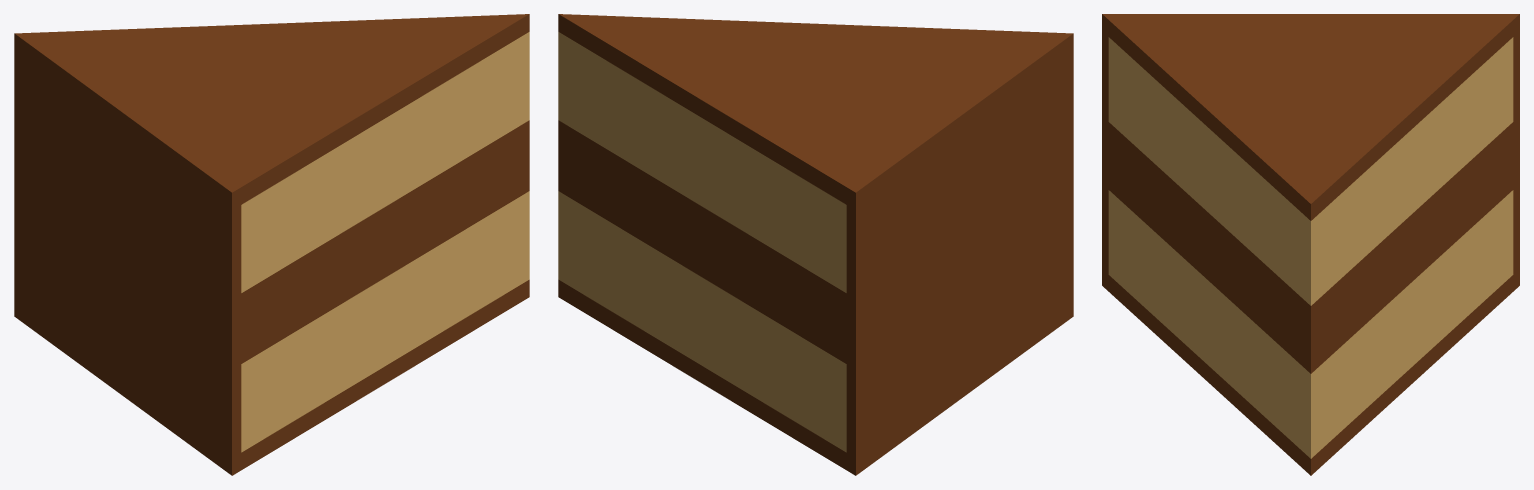
The model's file is cake.fbx.
The picture shows the model from 3 angles, left to right: view 1: azimuth 30°, elevation 25°; view 2: azimuth 150°, elevation 25°; view 3: azimuth 270°, elevation 25°; orthographic projection. The views are drawn at different scales.
Visible parts, largest first — view 1: frosting; view 2: frosting; view 3: frosting.
Boxes of the visible parts, bbox=[...] form: frosting: bbox=[14, 14, 529, 475]; frosting: bbox=[558, 14, 1073, 475]; frosting: bbox=[1102, 14, 1519, 475].
Bounding box in the file's own units: 261 × 174 × 242.
